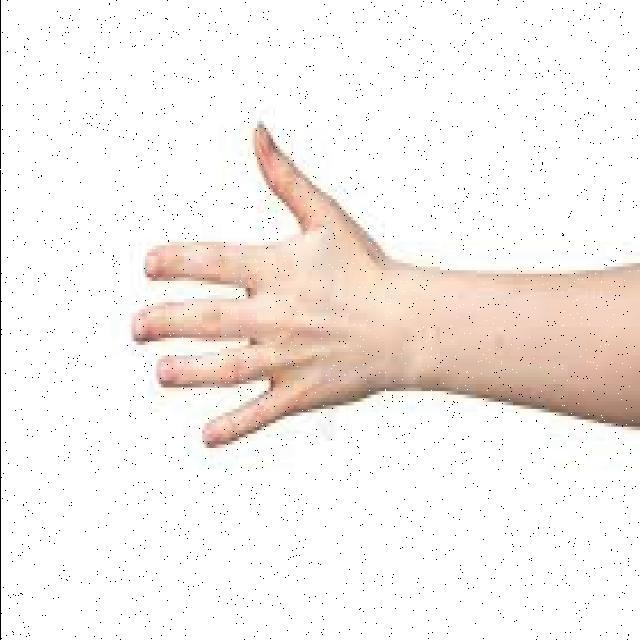no_apron: (126, 125, 417, 445)
